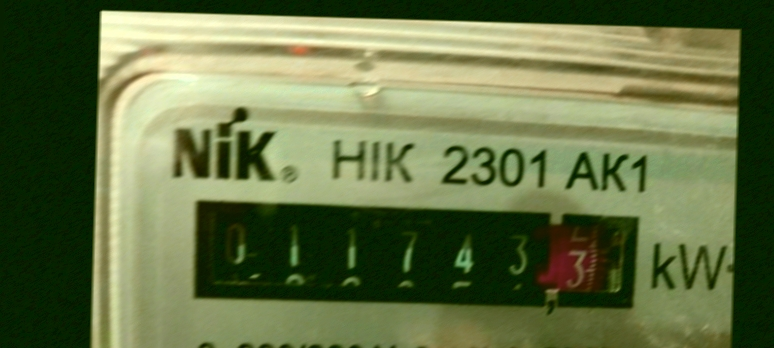0: (219, 218, 249, 265)
1: (339, 222, 361, 271), (284, 221, 302, 269)
3: (503, 229, 532, 277), (562, 245, 588, 289)
4: (449, 226, 478, 275)
7: (395, 226, 420, 275)
screen: (176, 188, 645, 320)
